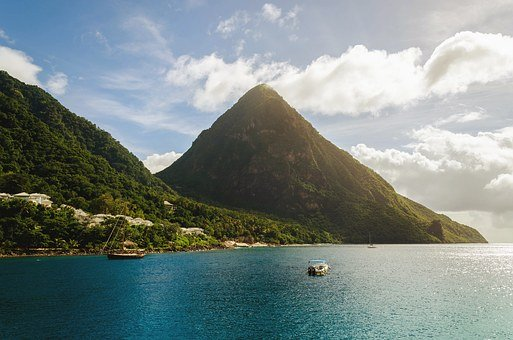mountain: (8, 66, 470, 234)
sea: (10, 245, 513, 339)
sky: (2, 3, 513, 177)
